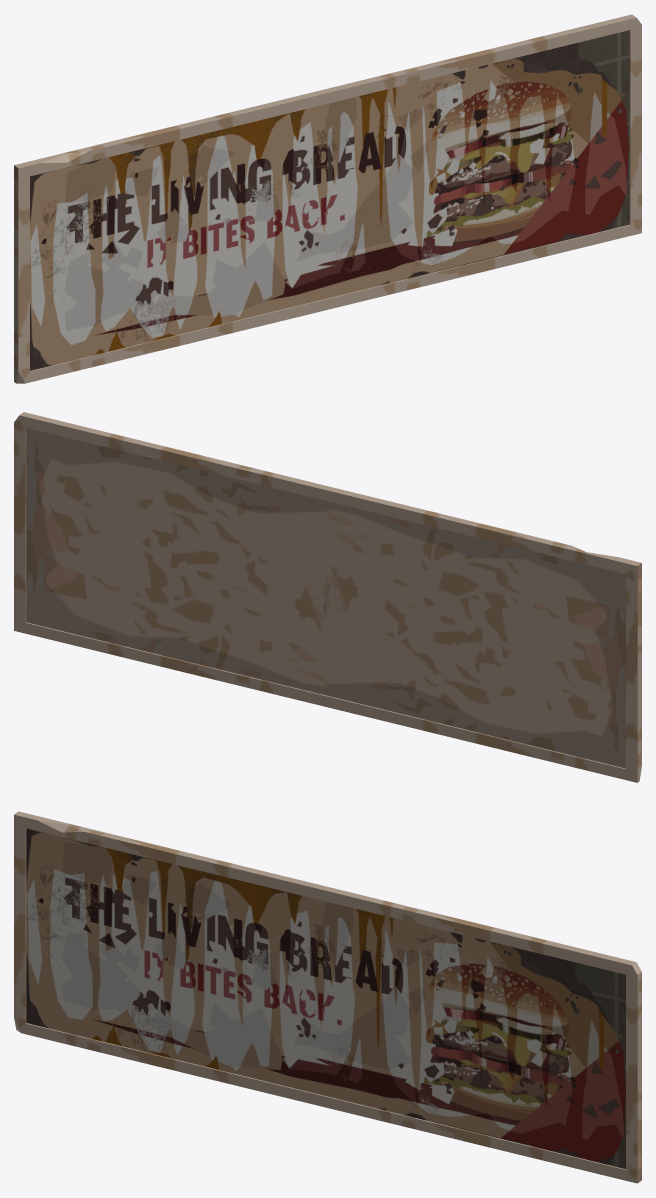
File: SM_Prop_Sign_Billboard_Framed_02.obj
3 renders of one model, top to bottom at view 1: azimuth 30°, elevation 25°; view 2: azimuth 150°, elevation 25°; view 3: azimuth 330°, elevation 25°, orthographic.
Parts seen in each view (by area): view 1: SM_Prop_Sign_Billboard_Framed_02_0; view 2: SM_Prop_Sign_Billboard_Framed_02_0; view 3: SM_Prop_Sign_Billboard_Framed_02_0.
Part boxes in pixels (<box>): SM_Prop_Sign_Billboard_Framed_02_0: <box>14,14,641,383</box>; SM_Prop_Sign_Billboard_Framed_02_0: <box>14,412,641,782</box>; SM_Prop_Sign_Billboard_Framed_02_0: <box>14,811,641,1183</box>.
Bounding box in the file's own units: 9.34 × 3.1 × 0.1167.
Materials: 1 (1 with a texture image).
